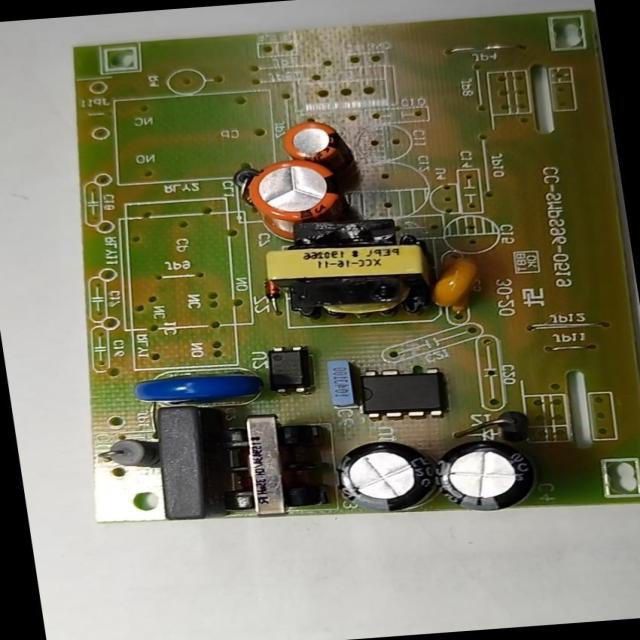Cap1: (240, 153, 363, 246)
Cap2: (275, 111, 353, 174)
Cap3: (326, 432, 444, 517)
Cap4: (426, 431, 546, 518)
MOSFET: (347, 362, 459, 424)
Mov: (123, 358, 282, 416)
Resistor: (97, 432, 172, 472)
Transformer: (254, 207, 452, 330), (208, 411, 345, 530)
